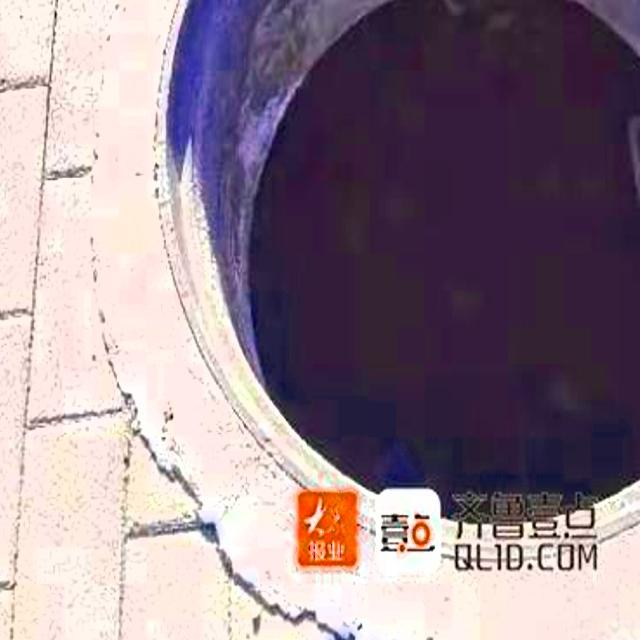lose: (91, 0, 640, 640)
